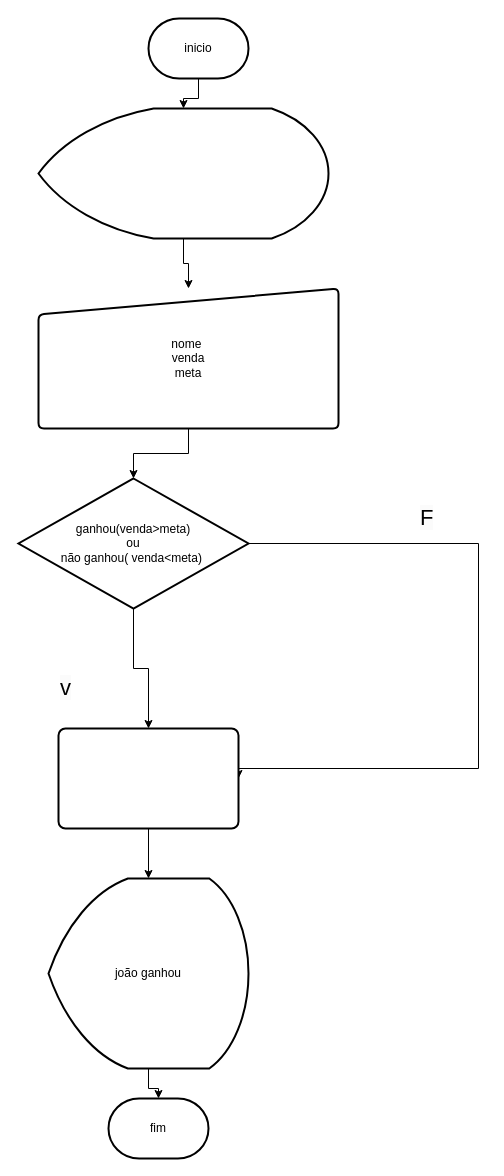
The diagram is 504 pixels wide and 1176 high, and some of its shapes have lost their labels. The shapes that lost their labels are listed below. From the top down, each one's box as (x1, y1, x2, y2) in pixels, then its label:
(37, 107, 329, 239): digite o nome do fucionaro digite as vendas digite a meta
(57, 727, 239, 829): nome=joão venda=1000 meta=500
